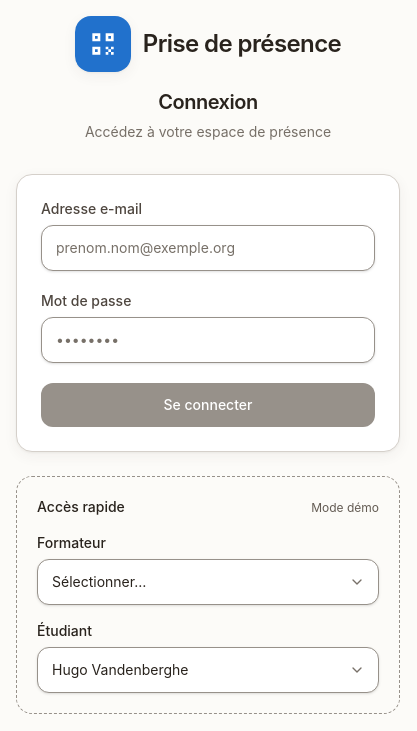
Test: Connexion — accès rapide (jeu de démonstration) › choisir un étudiant applique le mot de passe étudiant
(page scrolled)
Select "Hugo Vandenberghe" in the dropdown with id "demo-etudiant": (208, 670) [37,647,379,693]
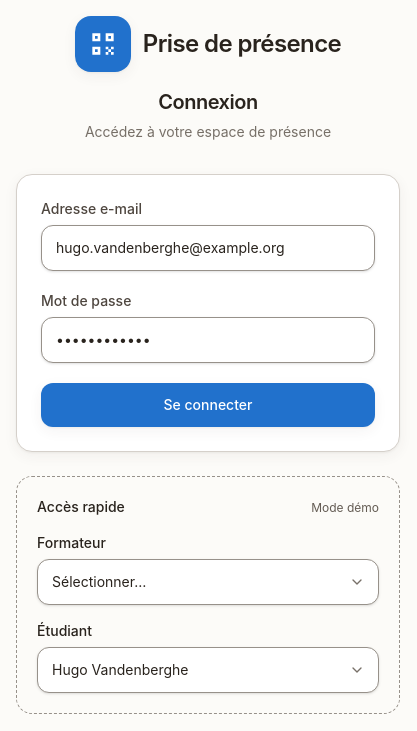
expect the field with id "email" holds "hugo.vandenberghe@example.org": met, box [41,225,375,271]
expect the password field with id "mot-de-passe" holds "Etudiant123!": met, box [41,317,375,363]
